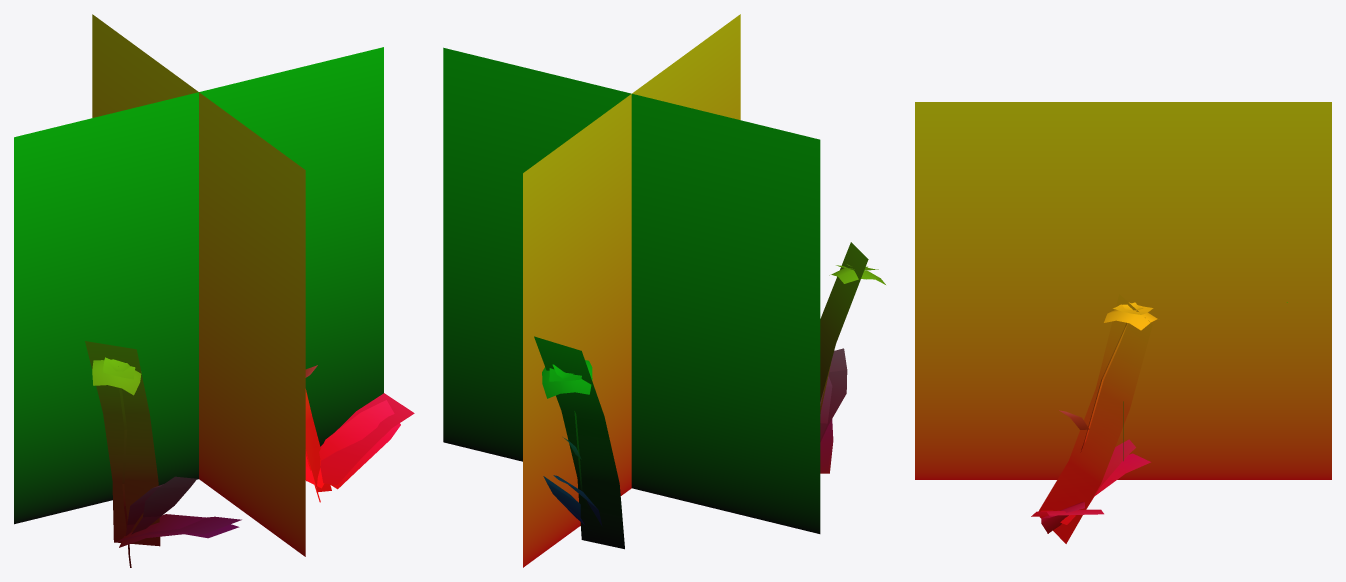
File: MSH_Field_DandelionFlower_C.FBX
3 views of the same model, side by side, from view 1: azimuth 30°, elevation 25°; view 2: azimuth 150°, elevation 25°; view 3: azimuth 270°, elevation 25° (orthographic). The views are drawn at different scales.
Visible parts, largest first — view 1: Field_DandelionFlower_C_LOD2_GEO, Field_DandelionFlower_C_LOD1_GEO, Field_DandelionFlower_C_LOD0_GEO; view 2: Field_DandelionFlower_C_LOD2_GEO, Field_DandelionFlower_C_LOD1_GEO, Field_DandelionFlower_C_LOD0_GEO; view 3: Field_DandelionFlower_C_LOD2_GEO, Field_DandelionFlower_C_LOD1_GEO, Field_DandelionFlower_C_LOD0_GEO.
Part boxes in pixels (x1,y1,x2,y2): Field_DandelionFlower_C_LOD2_GEO: [14, 14, 383, 556]; Field_DandelionFlower_C_LOD1_GEO: [85, 341, 400, 547]; Field_DandelionFlower_C_LOD0_GEO: [92, 357, 414, 567]; Field_DandelionFlower_C_LOD2_GEO: [443, 14, 820, 567]; Field_DandelionFlower_C_LOD1_GEO: [534, 242, 868, 549]; Field_DandelionFlower_C_LOD0_GEO: [542, 264, 885, 526]; Field_DandelionFlower_C_LOD2_GEO: [915, 102, 1331, 479]; Field_DandelionFlower_C_LOD1_GEO: [1038, 294, 1152, 543]; Field_DandelionFlower_C_LOD0_GEO: [1031, 302, 1287, 533].
Bounding box in the file's own units: 90.66 × 97.26 × 90.66.
